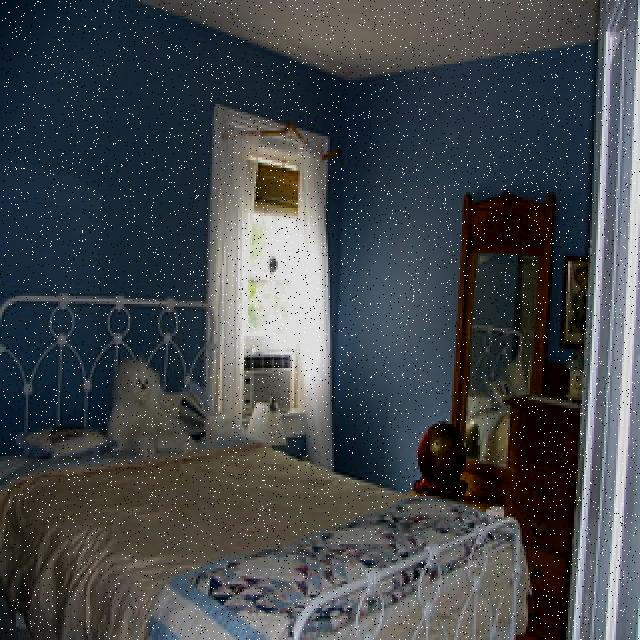bed: (0, 393, 513, 640)
